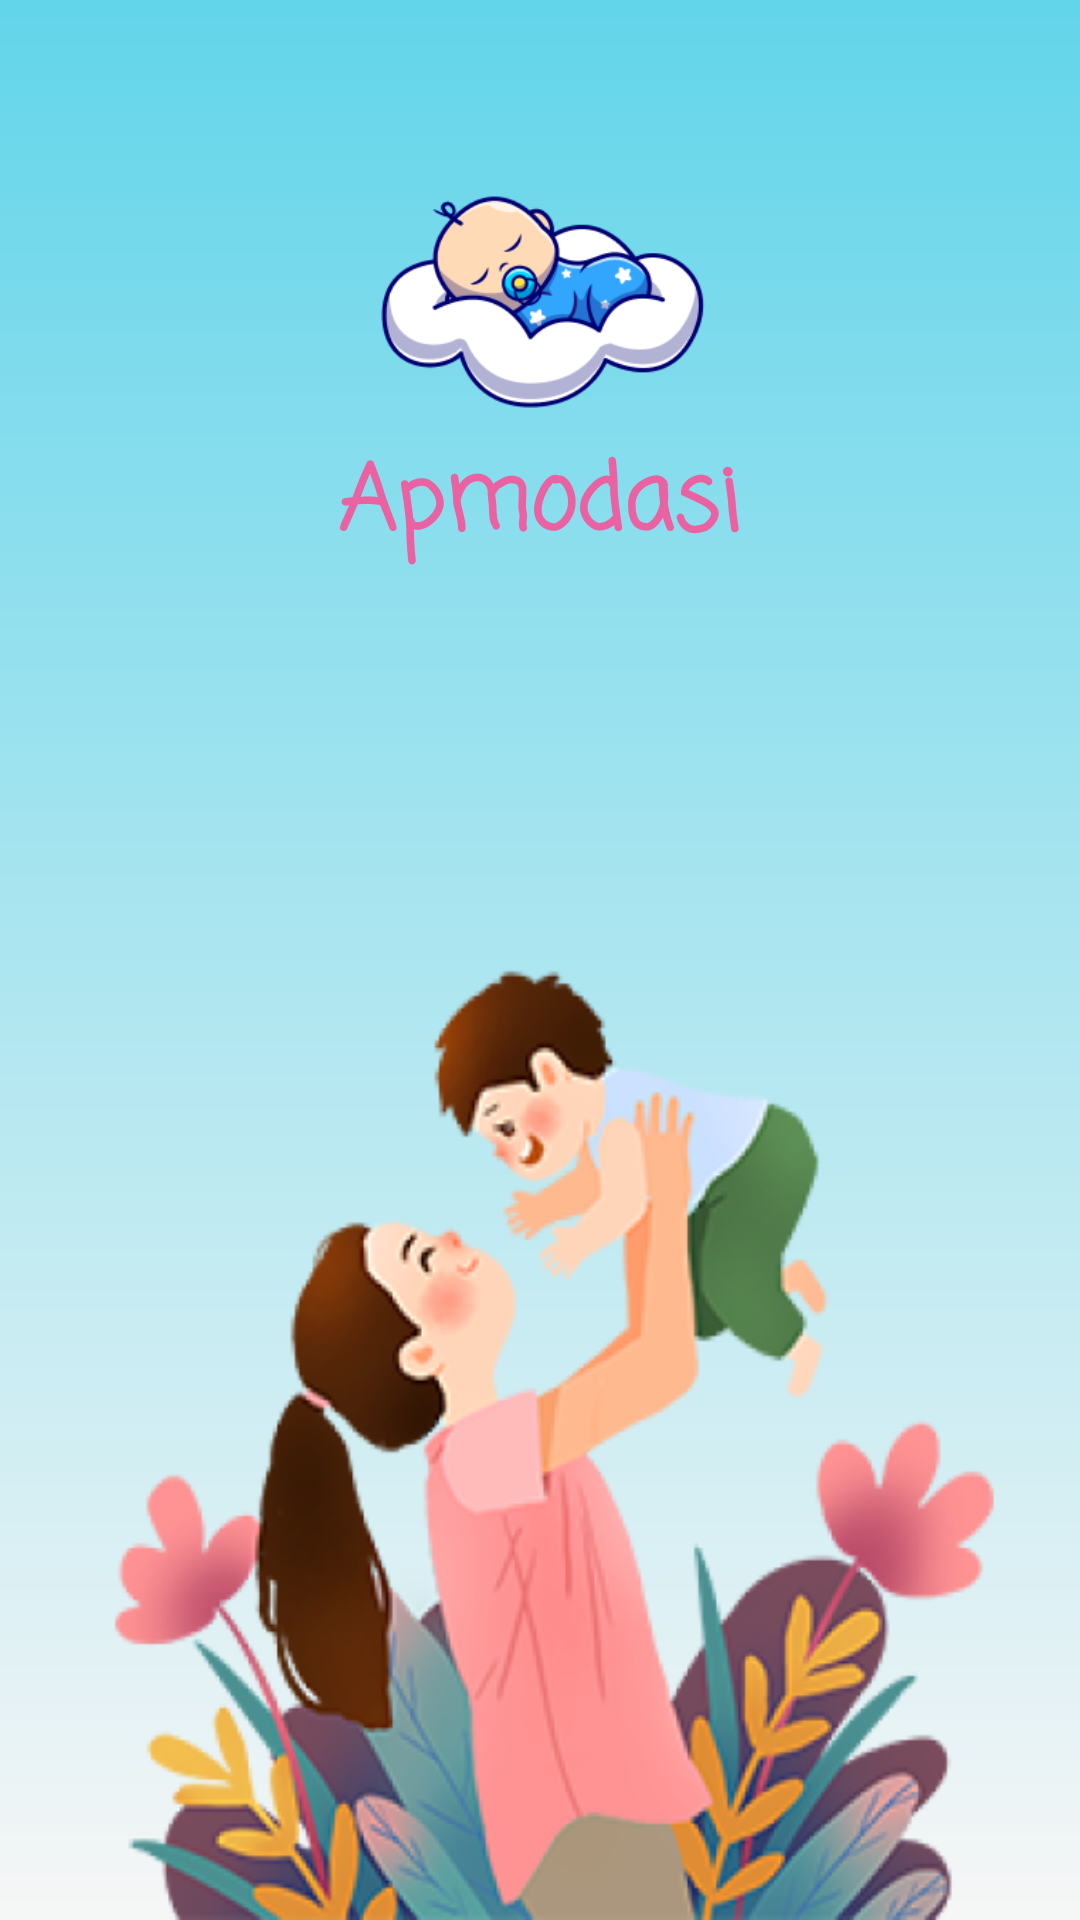

Screen size 1080×1920. Icon name, then its box in pixels as bbox=[x1, y1, x2, y2]:
children: bbox=[381, 196, 704, 408]
